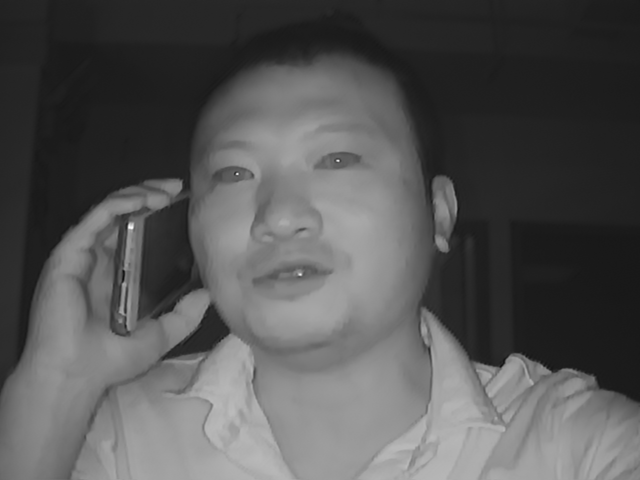hand: (34, 166, 184, 358)
